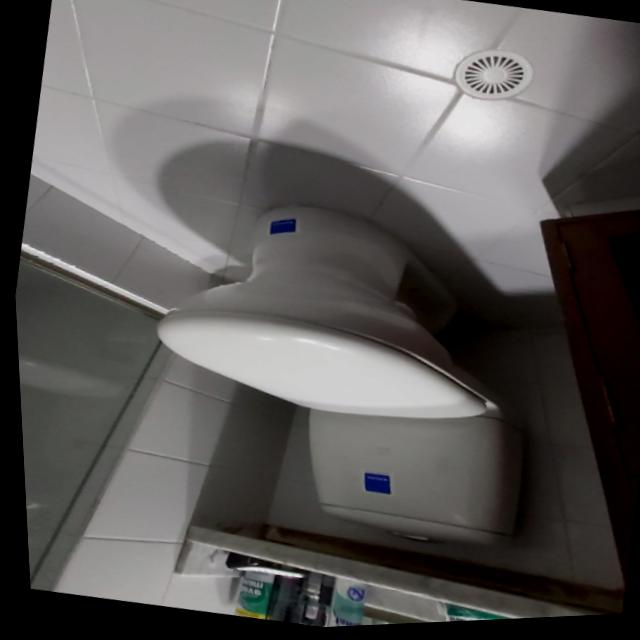toilet: (115, 176, 561, 571)
